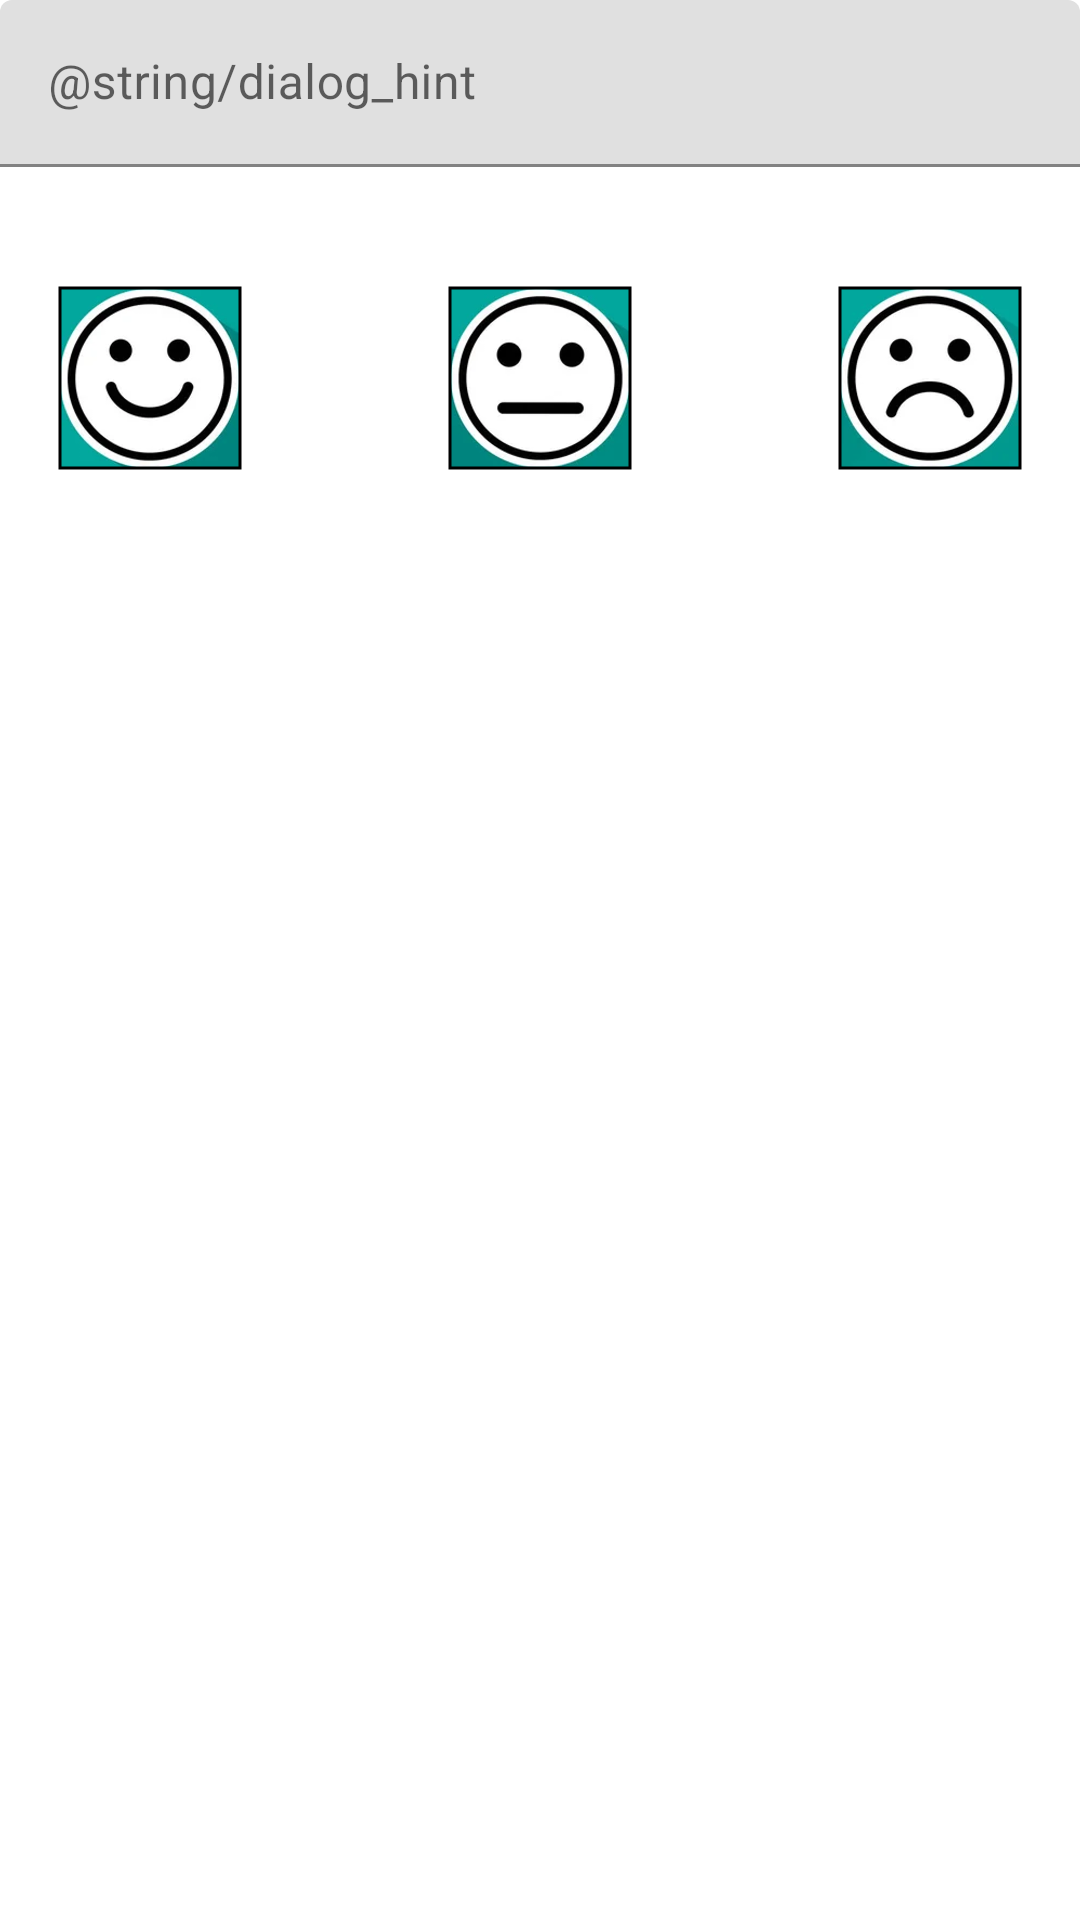

Locate icon controls on the screen. Image size 1080w x 1920h, boxes as BBox(x1, y1, x2, y2).
neg: BBox(838, 286, 1022, 470)
neu: BBox(448, 286, 632, 470)
pos: BBox(58, 286, 242, 470)
